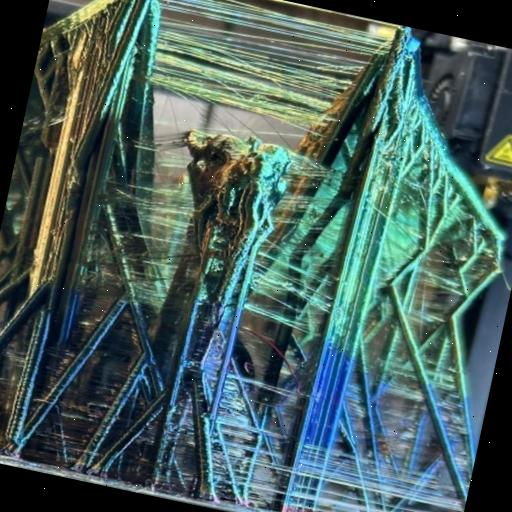stringing: (124, 0, 385, 133), (295, 455, 452, 512), (244, 240, 338, 326), (112, 178, 204, 245)
